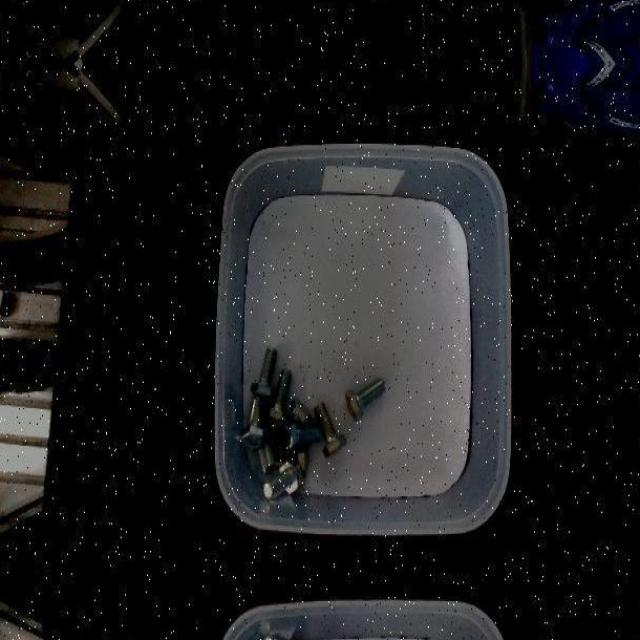screw: (344, 376, 385, 420), (314, 401, 346, 457), (262, 457, 302, 498), (281, 417, 322, 452), (250, 346, 277, 398), (240, 396, 266, 448), (266, 368, 290, 420), (262, 636, 302, 640)
